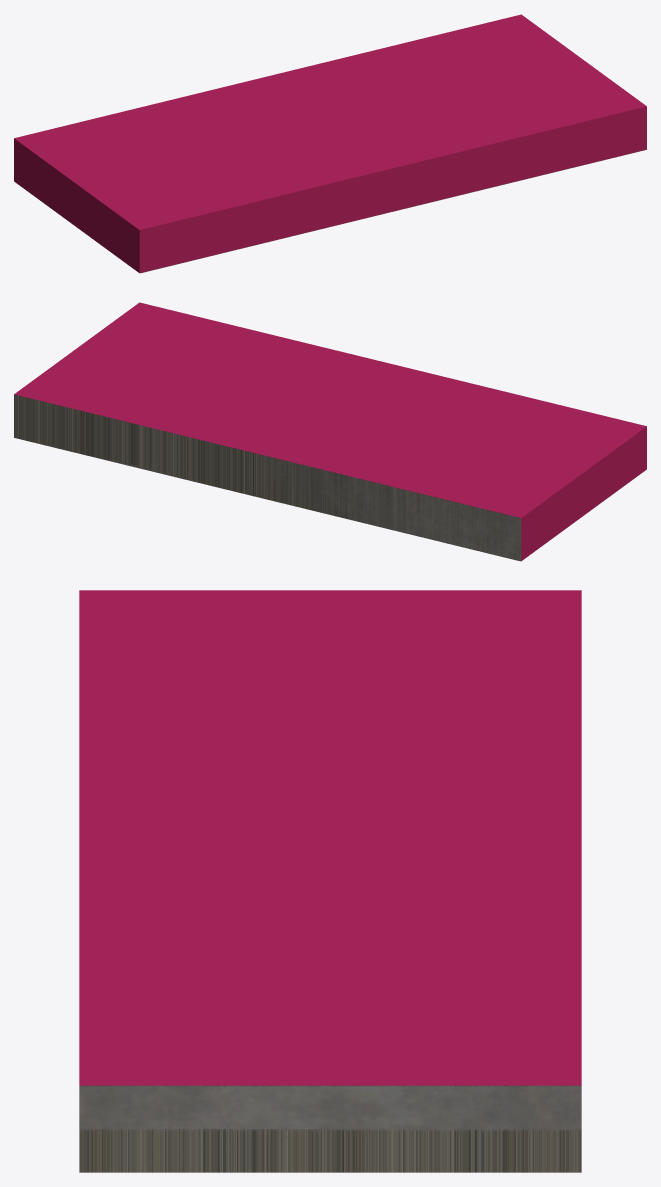
File: walkway_01.DAE
The picture shows the model from 3 angles, top to bottom: view 1: azimuth 30°, elevation 25°; view 2: azimuth 150°, elevation 25°; view 3: azimuth 270°, elevation 25°; orthographic projection. The views are drawn at different scales.
Visible parts, largest first — view 1: bounds, colbox-01; view 2: bounds, colbox-01, walkway_one; view 3: bounds, colbox-01, walkway_one.
Boxes of the visible parts, x1=… form: bounds: x1=14, y1=14, x2=646, y2=273; colbox-01: x1=140, y1=149, x2=646, y2=273; bounds: x1=14, y1=302, x2=646, y2=560; colbox-01: x1=14, y1=394, x2=520, y2=561; walkway_one: x1=16, y1=437, x2=521, y2=560; bounds: x1=79, y1=590, x2=581, y2=1085; colbox-01: x1=79, y1=1085, x2=581, y2=1172; walkway_one: x1=79, y1=1086, x2=581, y2=1131.
Size of the model in its own units: 700 by 300 by 57.29.
3 materials, 2 textured.
